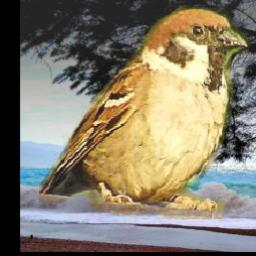Sparrow: (40, 5, 252, 219)
